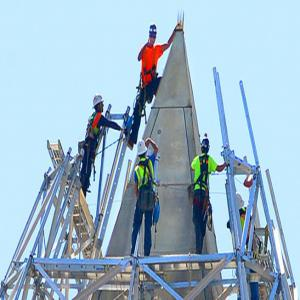blue: (148, 24, 159, 46), (202, 138, 211, 156)
white: (93, 93, 105, 115), (138, 140, 148, 161)
